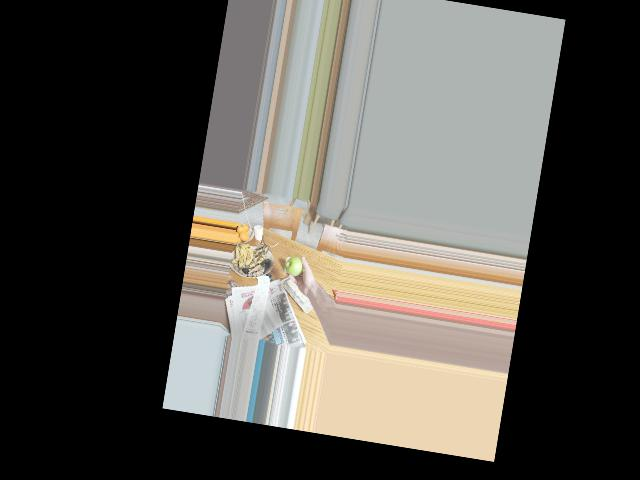apple: (282, 255, 308, 280)
